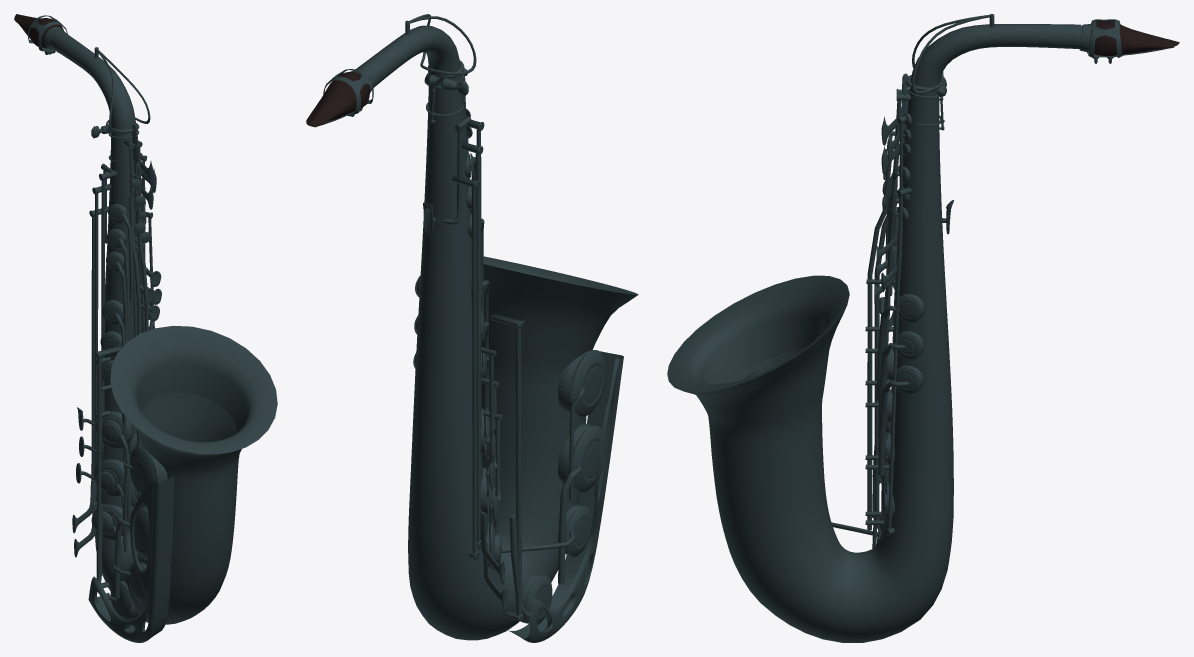
Rendered from second-saxophone.glb.
The picture shows the model from 3 angles, left to right: view 1: azimuth 30°, elevation 25°; view 2: azimuth 150°, elevation 25°; view 3: azimuth 270°, elevation 25°; orthographic projection. The views are drawn at different scales.
Parts seen in each view (by area): view 1: Object_2, Object_3, Object_7, Object_9, Object_4, Object_6, Object_5, Object_8; view 2: Object_2, Object_3, Object_7, Object_9, Object_4, Object_5, Object_6, Object_8; view 3: Object_2, Object_3, Object_5, Object_6, Object_8.
Part boxes in pixels (<box>): Object_2: <box>49,30,277,624</box>; Object_3: <box>72,47,161,588</box>; Object_7: <box>88,476,174,642</box>; Object_9: <box>97,464,157,602</box>; Object_4: <box>129,447,167,495</box>; Object_6: <box>23,15,67,54</box>; Object_5: <box>14,14,63,48</box>; Object_8: <box>96,49,150,133</box>; Object_2: <box>356,25,638,640</box>; Object_3: <box>405,20,525,621</box>; Object_7: <box>504,351,623,642</box>; Object_9: <box>494,387,584,617</box>; Object_4: <box>558,350,606,416</box>; Object_5: <box>306,71,369,126</box>; Object_6: <box>308,68,373,127</box>; Object_8: <box>410,14,476,74</box>; Object_2: <box>667,24,1081,642</box>; Object_3: <box>865,14,994,535</box>; Object_5: <box>1088,21,1179,56</box>; Object_6: <box>1079,19,1174,63</box>; Object_8: <box>912,14,989,93</box>.
Size of the model in its own units: 2.63 by 8.91 by 6.63.
